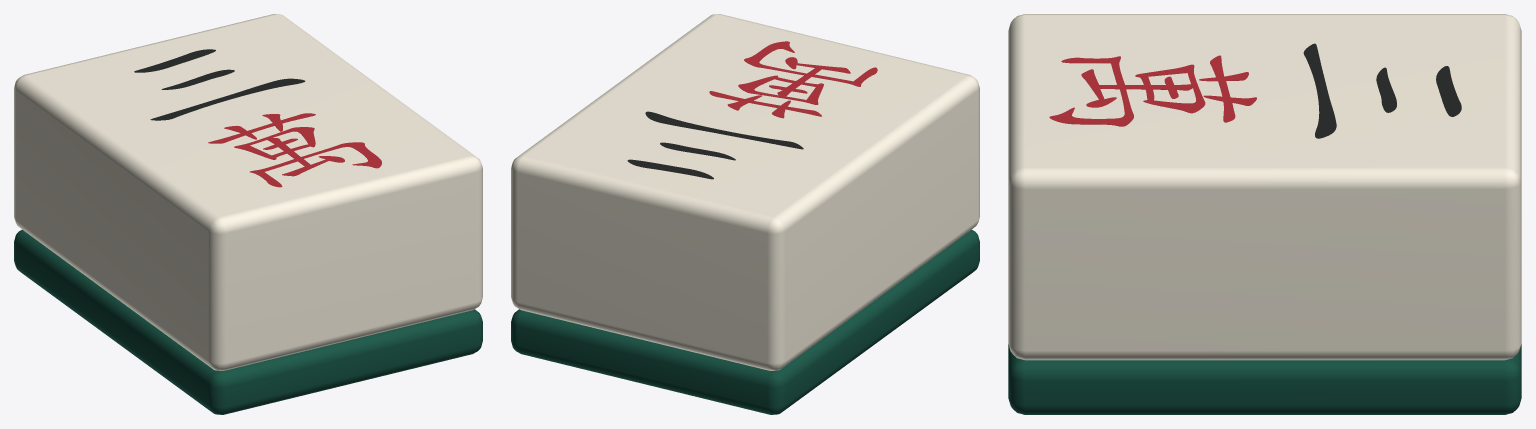
Rendered from wan-03.glb.
3 renders of one model, left to right at view 1: azimuth 30°, elevation 25°; view 2: azimuth 150°, elevation 25°; view 3: azimuth 270°, elevation 25°, orthographic. The views are drawn at different scales.
Parts seen in each view (by area): view 1: wan-03_ivory, wan-03_back, wan-03_face_inlays; view 2: wan-03_ivory, wan-03_back, wan-03_face_inlays; view 3: wan-03_ivory, wan-03_back, wan-03_face_inlays.
Part boxes in pixels (x1,y1,x2,y2): wan-03_ivory: (14, 14, 482, 370); wan-03_back: (14, 229, 482, 414); wan-03_face_inlays: (134, 49, 381, 187); wan-03_ivory: (511, 14, 979, 370); wan-03_back: (511, 229, 979, 414); wan-03_face_inlays: (627, 41, 877, 179); wan-03_ivory: (1008, 14, 1521, 360); wan-03_back: (1008, 344, 1521, 414); wan-03_face_inlays: (1049, 43, 1461, 138).
Size of the model in its own units: 0.026 by 0.018 by 0.034.
